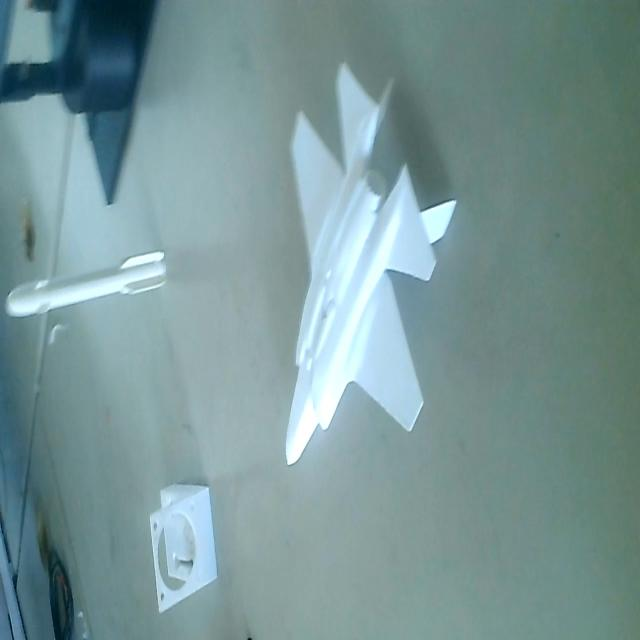Jet: (274, 58, 460, 468)
Rocket: (6, 245, 173, 323)
